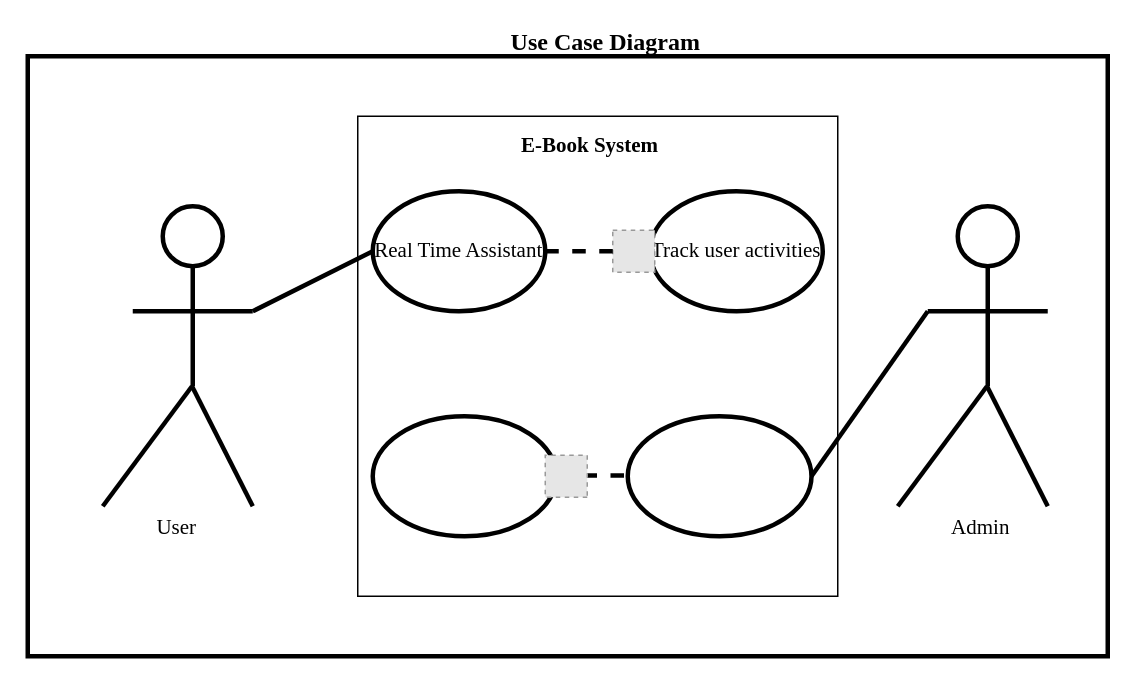
Some shapes in this 1136 by 684 pixel diagram are drawn without their labels. Grey dashed boxes stand in for pictures. The centre of each missing label's shape, as x and y in pixels:
Notify User Weekly Update: point (719, 475)
Send email: point (464, 475)
